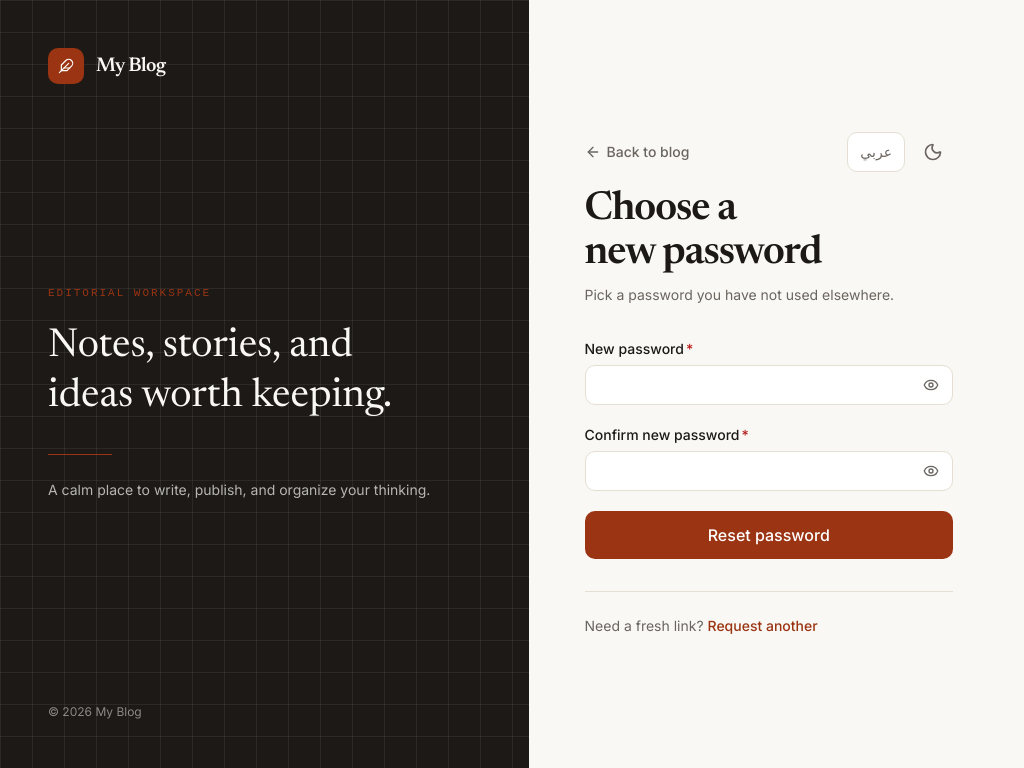
Scenario: ResetPassword › submits the credentials from the reset link
In the password field labelled "New password*": (769, 385) [584,365,953,405], type "new-password"
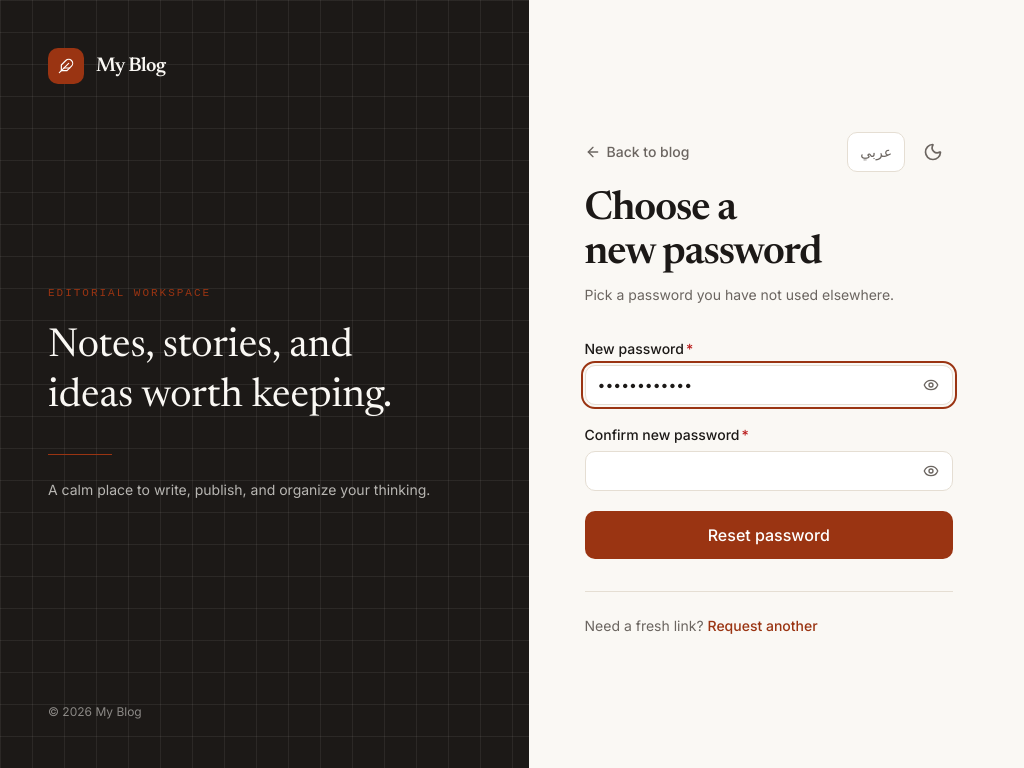
In the password field labelled "Confirm new password*": (769, 471) [584,451,953,491], type "new-password"
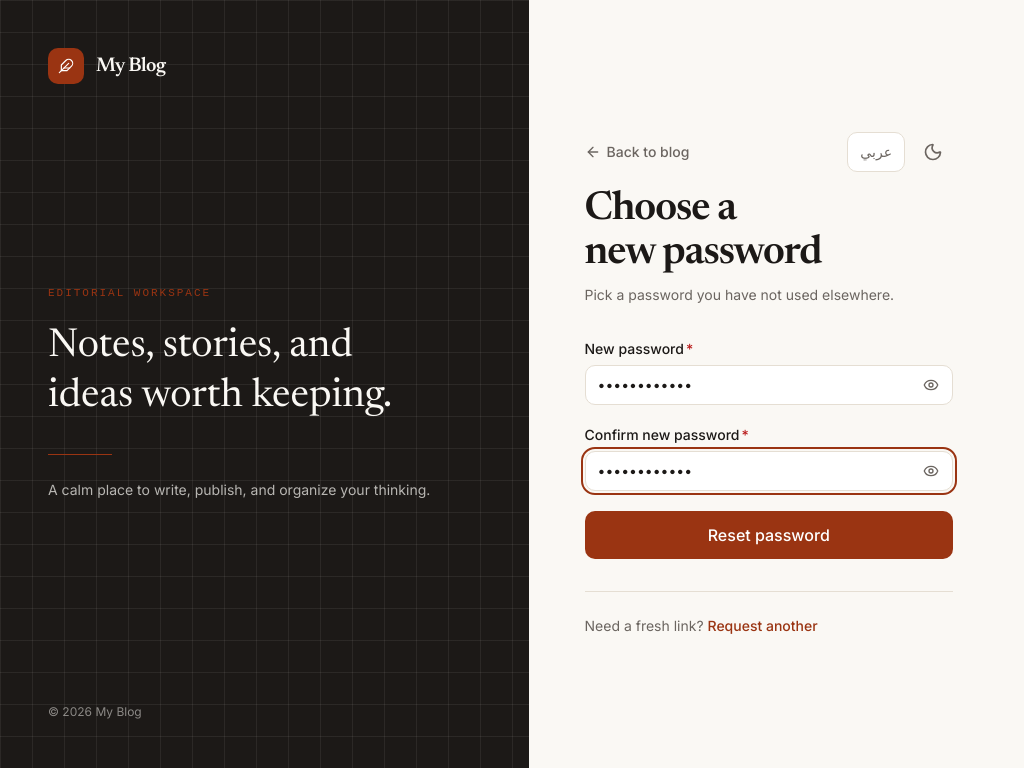
Click the button "Reset password": (769, 535) [584,511,953,559]
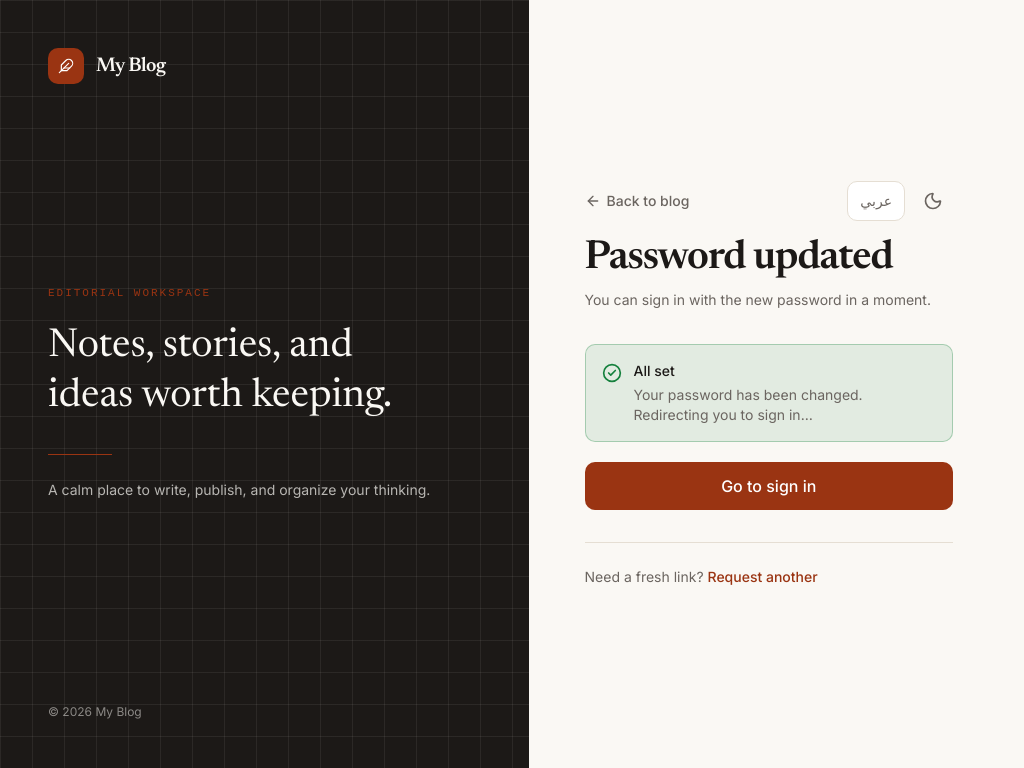
Result: the message shows "All set" at [634,362,675,379]
